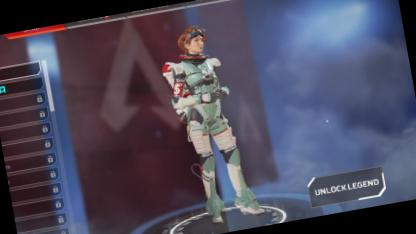Target: (168, 18, 245, 210)
